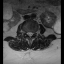CCS_normal: (28, 30, 30, 39)
LFS_stenosis: (33, 30, 35, 36)
LLS_normal: (31, 30, 33, 37)
RFS_stenosis: (24, 30, 27, 35)
RLS_normal: (26, 30, 28, 36)
